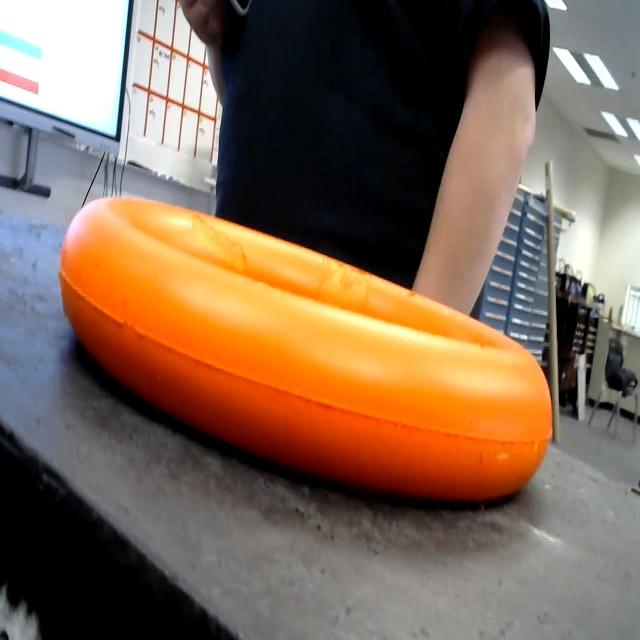note: (53, 162, 559, 536)
